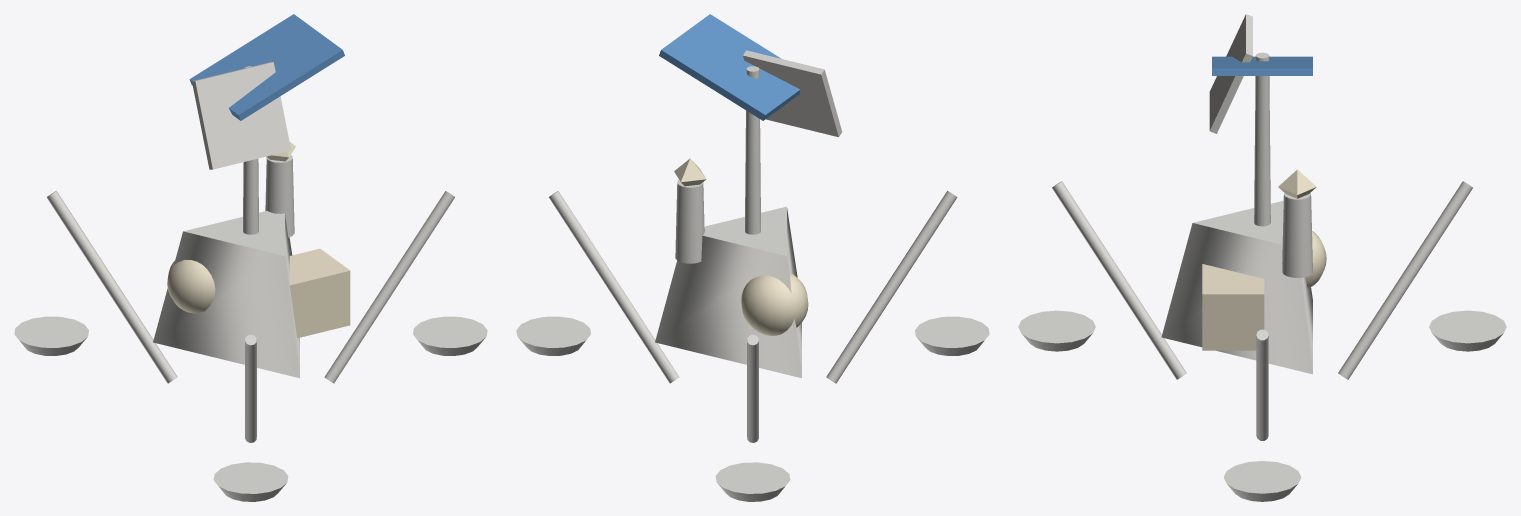
File: surveyor.glb
3 views of the same model, side by side, from view 1: azimuth 30°, elevation 25°; view 2: azimuth 150°, elevation 25°; view 3: azimuth 270°, elevation 25° (orthographic). The views are drawn at different scales.
Bounding box in the file's own units: 2.23 × 2.07 × 2.51.
